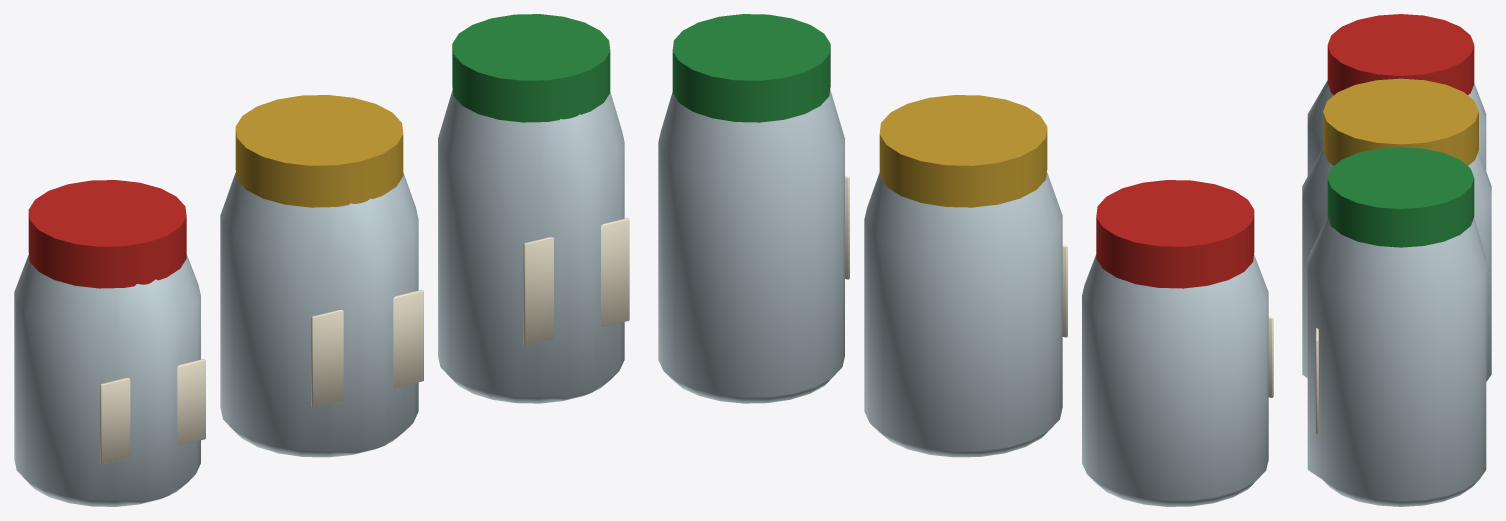
Rendered from deli_jam_jars_trio.glb.
3 renders of one model, left to right at view 1: azimuth 30°, elevation 25°; view 2: azimuth 150°, elevation 25°; view 3: azimuth 270°, elevation 25°, orthographic. The views are drawn at different scales.
Visible parts, largest first — view 1: deli_jam_jars_trio; view 2: deli_jam_jars_trio; view 3: deli_jam_jars_trio.
Part boxes in pixels (x1=…): deli_jam_jars_trio: x1=14, y1=14, x2=629, y2=506; deli_jam_jars_trio: x1=658, y1=14, x2=1273, y2=506; deli_jam_jars_trio: x1=1302, y1=14, x2=1491, y2=506.
Size of the model in its own units: 0.235 by 0.123 by 0.0713.
